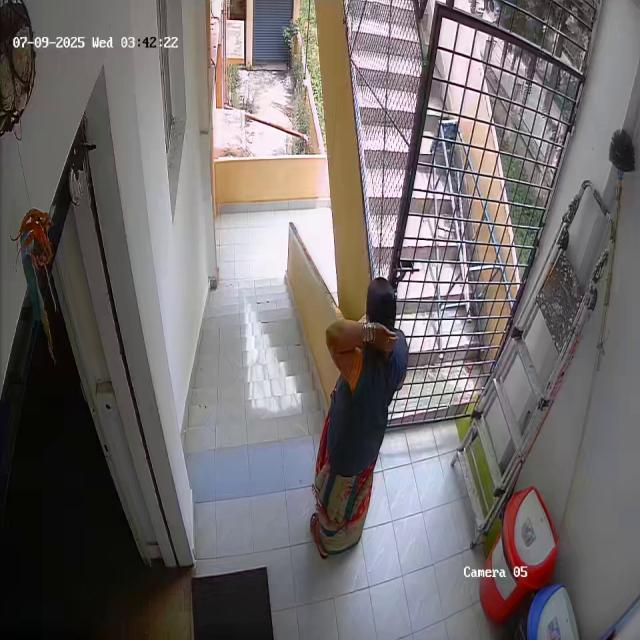person: (306, 273, 409, 564)
